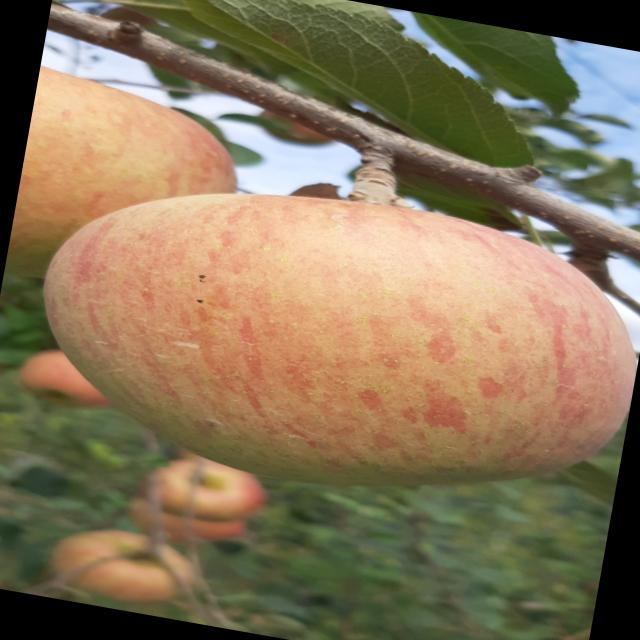fresh: (1, 130, 640, 545)
